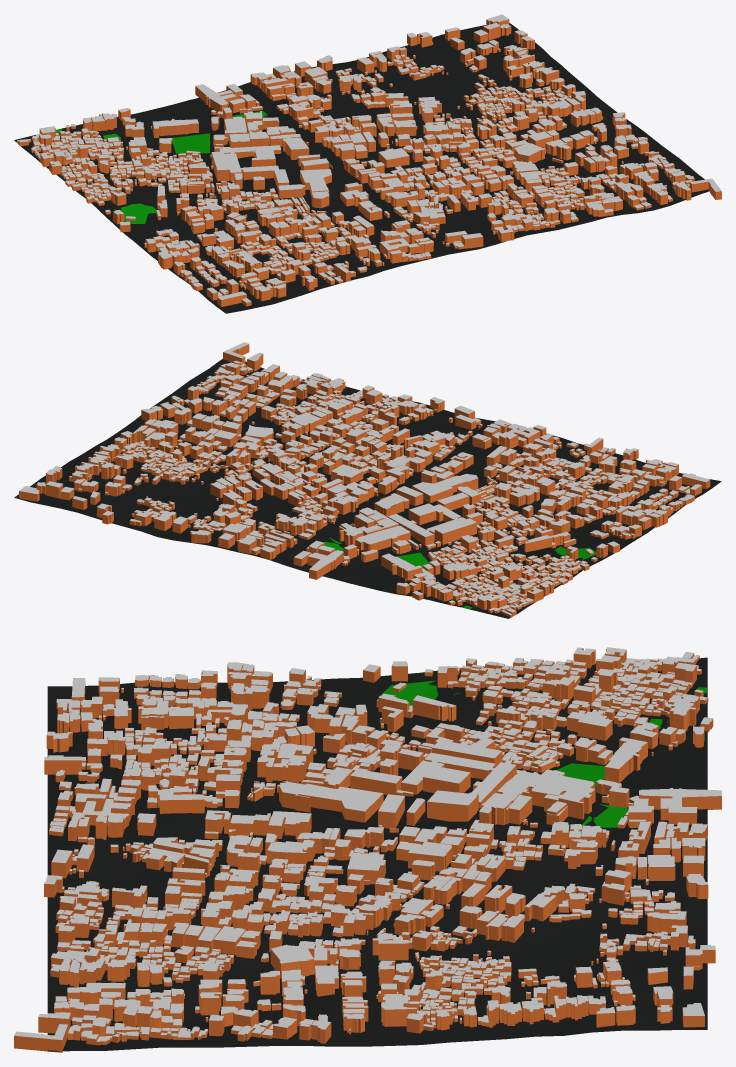
File: lurah.obj
3 views of the same model, one above another, from view 1: azimuth 30°, elevation 25°; view 2: azimuth 150°, elevation 25°; view 3: azimuth 270°, elevation 25° (orthographic). The views are drawn at different scales.
Parts seen in each view (by area): view 1: map_4.osm_buildings, map_4.osm_buildings.001, Terrain, map_4.osm_roads_residential, map_4.osm_roads_secondary, map_4.osm_vegetation, map_4.osm_roads_service; view 2: map_4.osm_buildings, map_4.osm_buildings.001, Terrain, map_4.osm_roads_residential, map_4.osm_roads_secondary, map_4.osm_roads_service, map_4.osm_vegetation; view 3: map_4.osm_buildings, map_4.osm_buildings.001, Terrain, map_4.osm_roads_residential, map_4.osm_roads_service, map_4.osm_vegetation, map_4.osm_roads_secondary.
Boxes of the visible parts, x1,y1,x2,y2 form: map_4.osm_buildings: (17,19,721,306); map_4.osm_buildings.001: (17,14,721,302); Terrain: (14,23,709,313); map_4.osm_roads_residential: (58,29,675,305); map_4.osm_roads_secondary: (240,86,453,252); map_4.osm_vegetation: (55,110,267,223); map_4.osm_roads_service: (121,82,592,245); map_4.osm_buildings: (19,344,710,617); map_4.osm_buildings.001: (19,342,709,615); Terrain: (14,359,721,618); map_4.osm_roads_residential: (52,375,685,610); map_4.osm_roads_secondary: (280,422,493,563); map_4.osm_roads_service: (197,412,561,588); map_4.osm_vegetation: (323,538,596,608); map_4.osm_buildings: (14,648,721,1052); map_4.osm_buildings.001: (14,647,721,1041); Terrain: (47,657,707,1051); map_4.osm_roads_residential: (53,665,704,1043); map_4.osm_roads_service: (63,691,702,1036); map_4.osm_vegetation: (379,680,706,827); map_4.osm_roads_secondary: (52,827,690,852).
Size of the model in its own units: 960 by 57.49 by 763.
